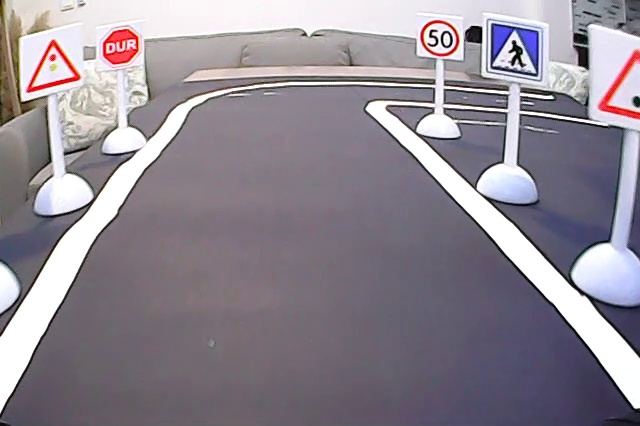pedestrian crossing: (485, 16, 544, 81)
red light: (22, 35, 84, 94)
speed limit 50: (420, 14, 465, 58)
stop sign: (96, 27, 142, 70)
